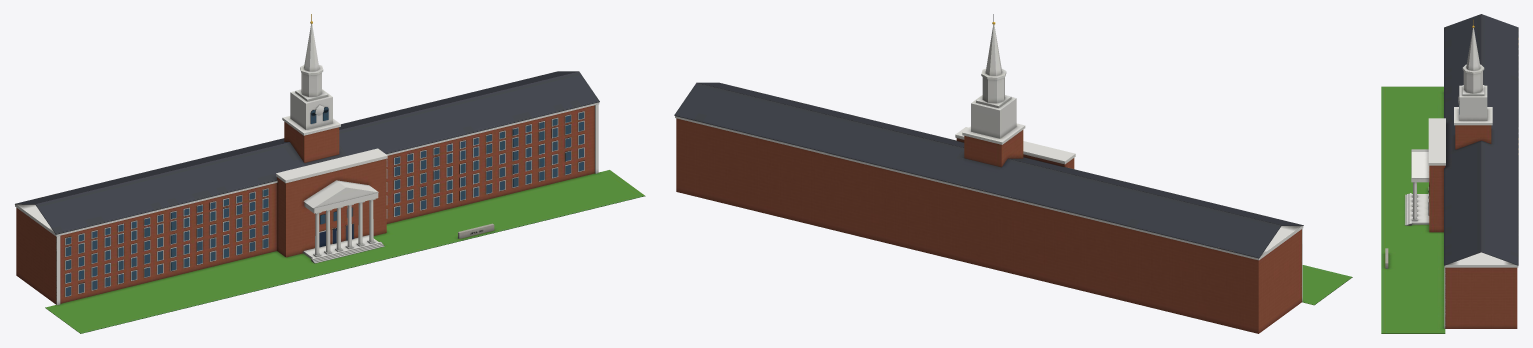
Rendered from aetna.glb.
3 renders of one model, left to right at view 1: azimuth 30°, elevation 25°; view 2: azimuth 150°, elevation 25°; view 3: azimuth 270°, elevation 25°, orthographic. The views are drawn at different scales.
Parts seen in each view (by area): view 1: aetna; view 2: aetna; view 3: aetna.
Part boxes in pixels (bbox=[...]): aetna: bbox=[15, 14, 645, 333]; aetna: bbox=[674, 14, 1352, 333]; aetna: bbox=[1381, 14, 1518, 333].
Size of the model in its own units: 146 by 52.7 by 34.32.
Materials: 1 (1 with a texture image).
